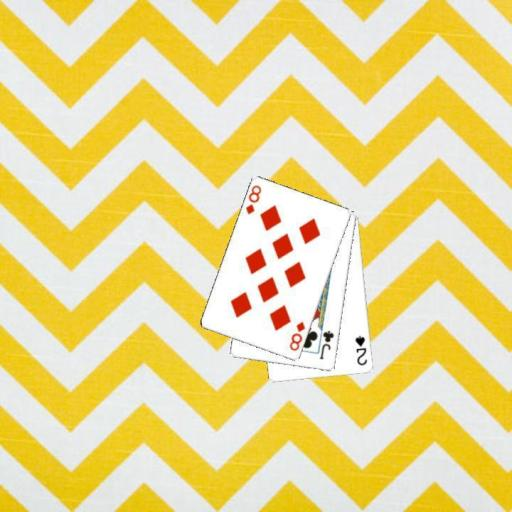card-corner: (286, 318, 306, 352), (243, 182, 263, 216), (316, 328, 336, 361), (353, 333, 369, 367)
